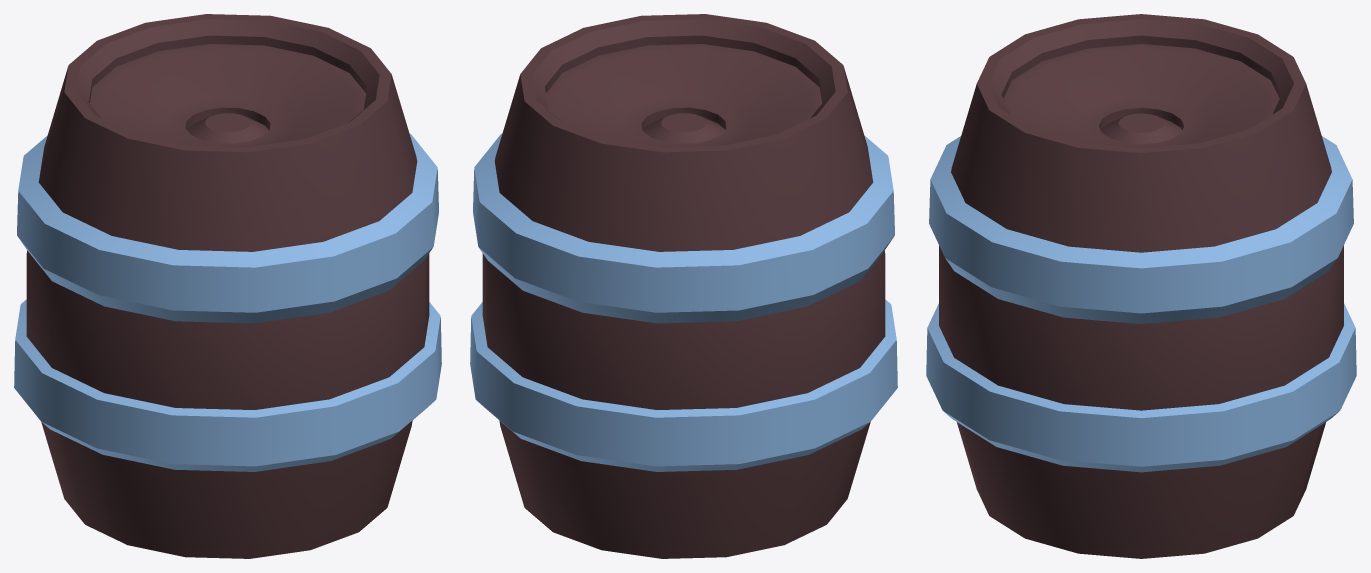
The model's file is woodenbarrel.fbx.
3 views of the same model, side by side, from view 1: azimuth 30°, elevation 25°; view 2: azimuth 150°, elevation 25°; view 3: azimuth 270°, elevation 25° (orthographic).
Visible parts, largest first — view 1: Circle.001; view 2: Circle.001; view 3: Circle.001.
Part boxes in pixels (bbox=[...]): Circle.001: bbox=[14, 14, 441, 558]; Circle.001: bbox=[470, 14, 897, 558]; Circle.001: bbox=[926, 14, 1356, 558].
Size of the model in its own units: 1 by 1.04 by 1.
